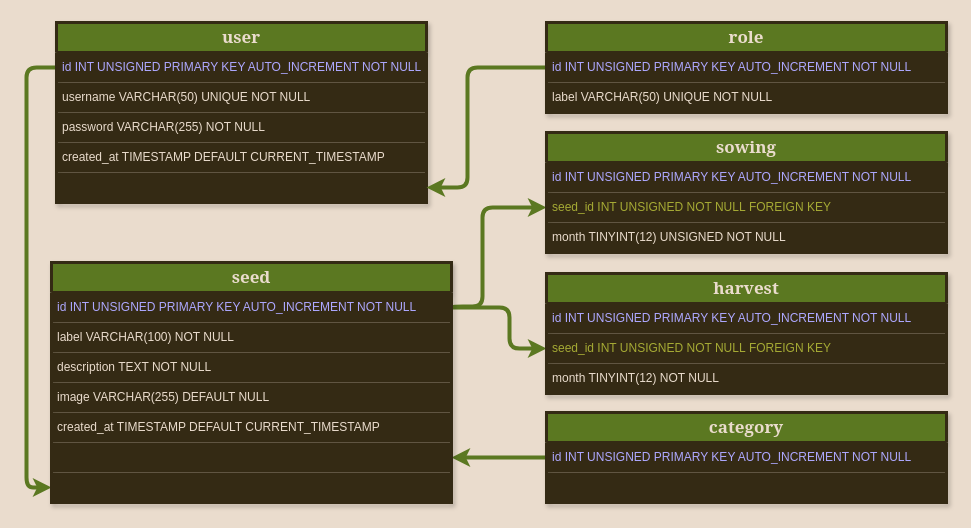
The diagram is 971 pixels wide and 528 high, and some of its shapes have lost their labels. The shapes that lost their labels are listed below. From the top down, each one's centre as x and y in pixels, then its label:
At (x=241, y=187): "role_id INT UNSIGNED NOT NULL FOREIGN KEY".
At (x=251, y=457): "category_id INT UNSIGNED NOT NULL FOREIGN KEY".
At (x=251, y=487): "user_id INT UNSIGNED NOT NULL FOREIGN KEY".
At (x=746, y=487): "label VARCHAR (50) UNIQUE NOT NULL".
